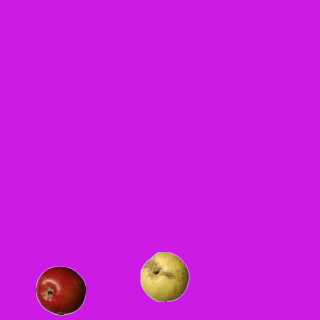Apple Braeburn: (35, 265, 85, 315)
Apple Golden 1: (139, 251, 189, 301)
